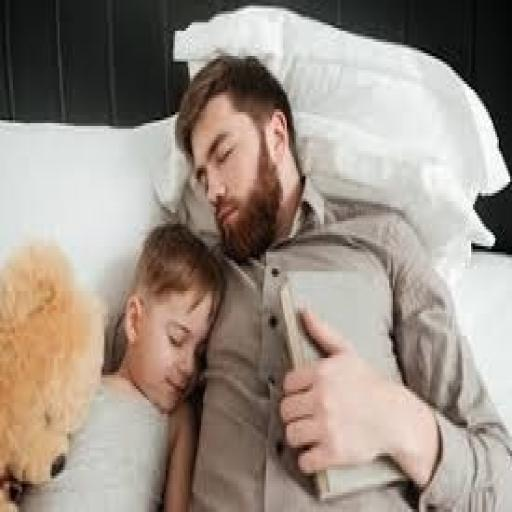sleeping: (171, 50, 510, 510)
